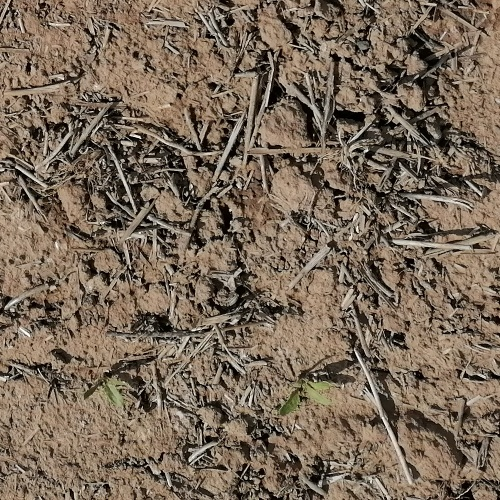beet: (279, 380, 335, 422), (95, 372, 124, 409)
